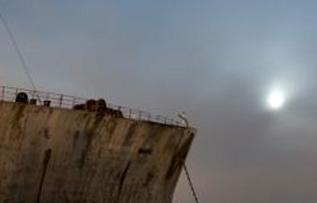rust: (167, 127, 200, 188), (81, 94, 106, 169), (31, 149, 55, 202), (114, 157, 137, 202), (9, 88, 32, 133)
